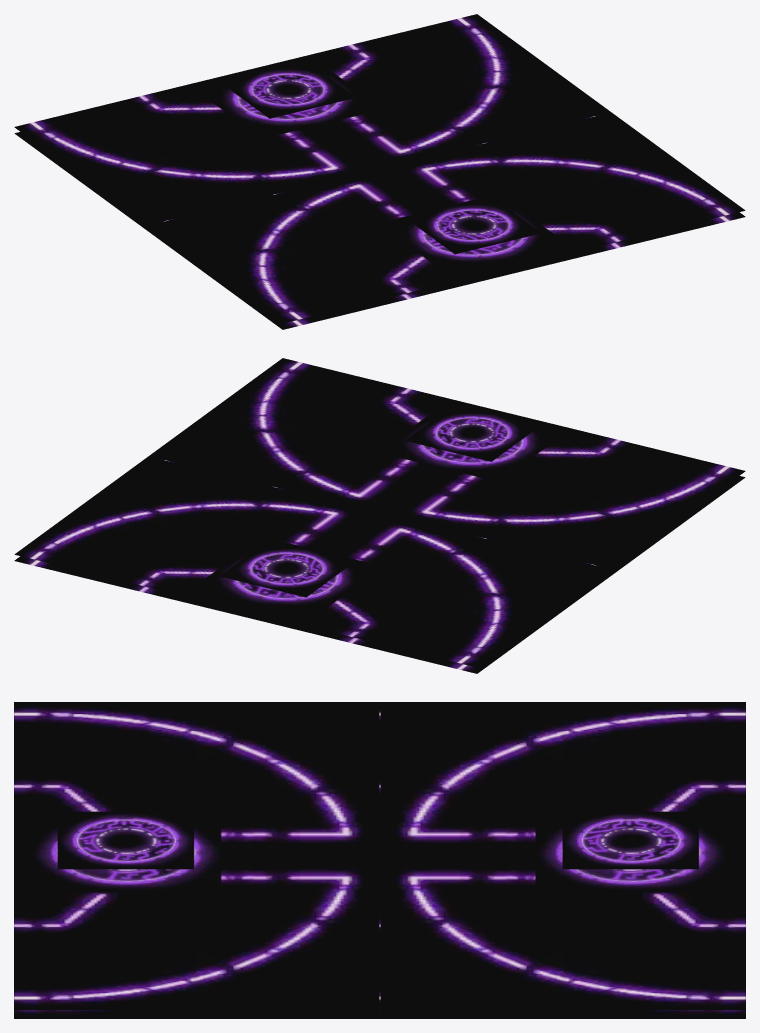
The picture shows the model from 3 angles, top to bottom: view 1: azimuth 30°, elevation 25°; view 2: azimuth 150°, elevation 25°; view 3: azimuth 270°, elevation 25°; orthographic projection. The views are drawn at different scales.
Bounding box in the file's own units: 5.58 × 0.3385 × 5.6.
3 materials, 3 textured.
